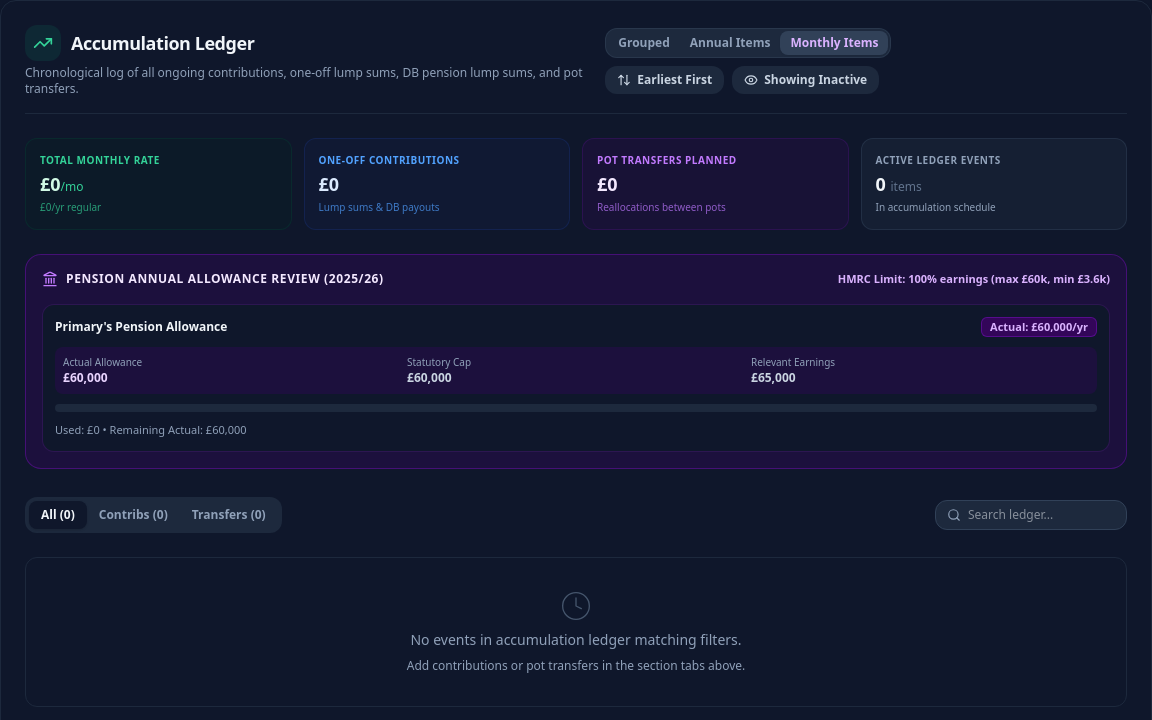
Test case: AccumulationLedgerCard Component › toggles date sort order between earliest first and latest first
Click the button "Earliest First" at (665, 80), box [605,66,724,94]
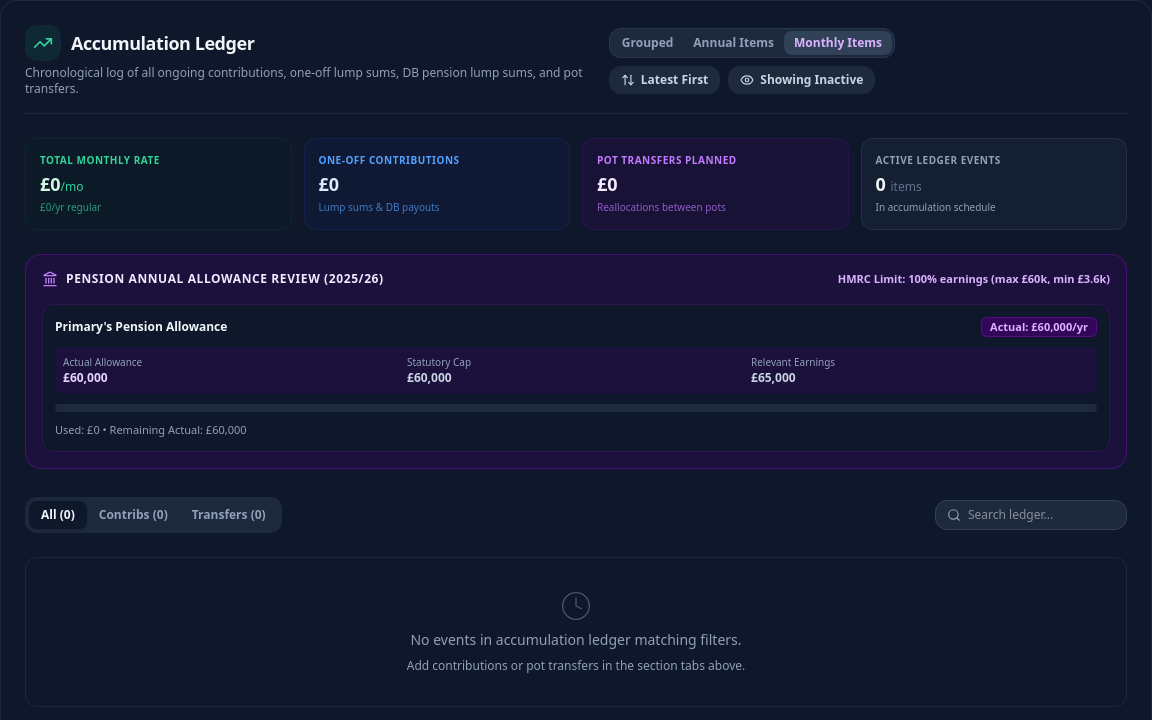
Now the button "Latest First" is shown
Click the button "Latest First" at (665, 80), box [609,66,720,94]
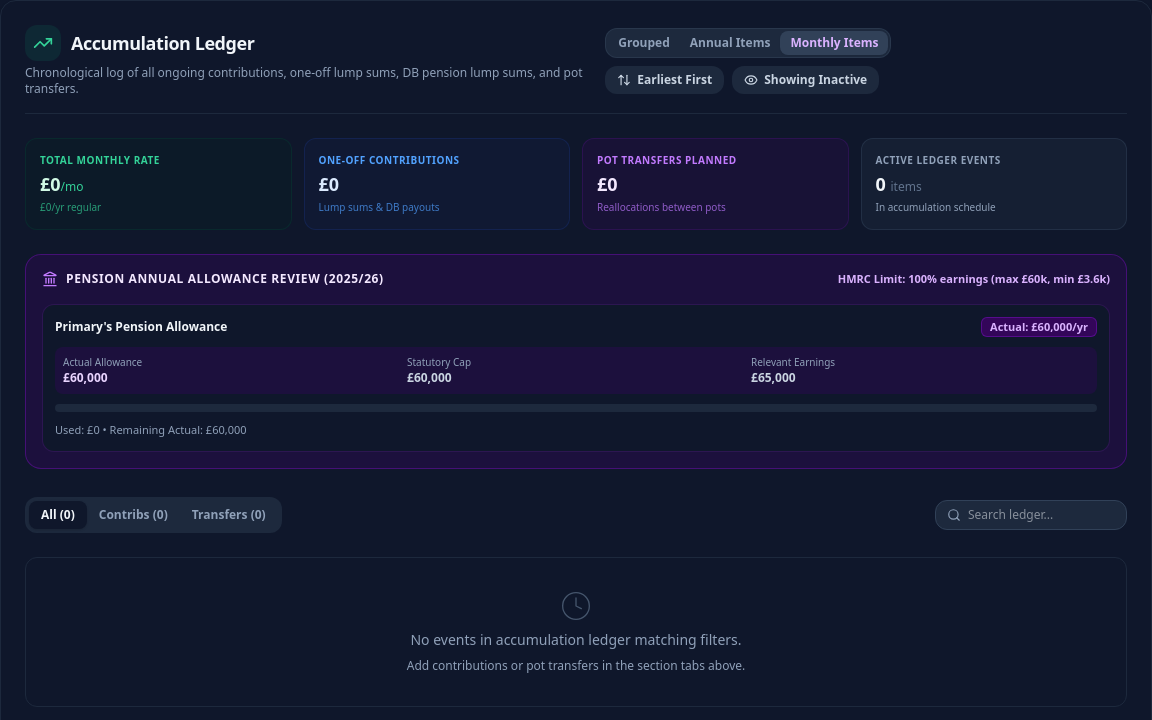
Now the button "Earliest First" is shown, box [605,66,724,94]
